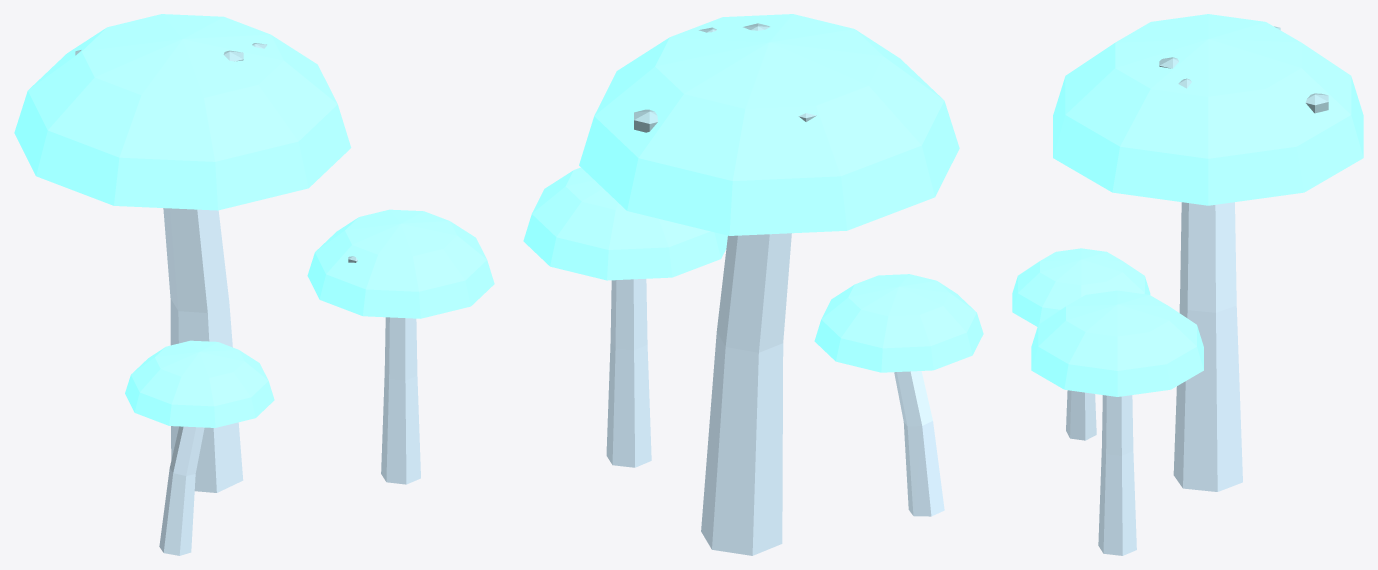
File: Mine_GlowShroom_Small.fbx
3 views of the same model, side by side, from view 1: azimuth 30°, elevation 25°; view 2: azimuth 150°, elevation 25°; view 3: azimuth 270°, elevation 25° (orthographic). The views are drawn at different scales.
Visible parts, largest first — view 1: Mine_GlowShroom_Small_Body; view 2: Mine_GlowShroom_Small_Body; view 3: Mine_GlowShroom_Small_Body.
Part boxes in pixels (x1,y1,x2,y2): Mine_GlowShroom_Small_Body: [14, 14, 494, 555]; Mine_GlowShroom_Small_Body: [523, 14, 983, 555]; Mine_GlowShroom_Small_Body: [1012, 14, 1363, 555].
Size of the model in its own units: 0.49 by 0.5225 by 0.3873.
